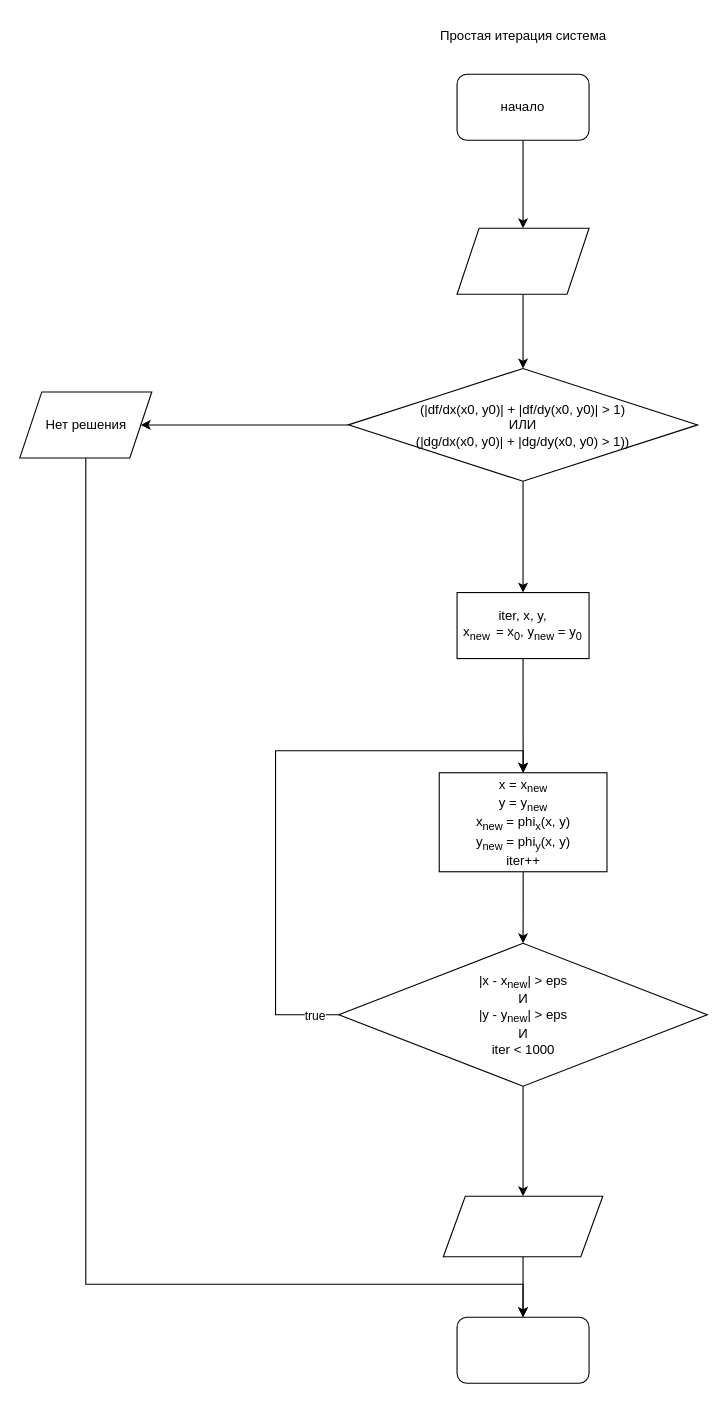
Image size: 726x1403. Some labels were removed from this diagram. Each missing label, with the centre of its shape:
"system, x 0 , y 0 , eps" belongs at (522,260).
"конец" belongs at (522,1349).
"Решение x, y, f(x,y), g(x,y) погрешности, iter" belongs at (522,1226).
